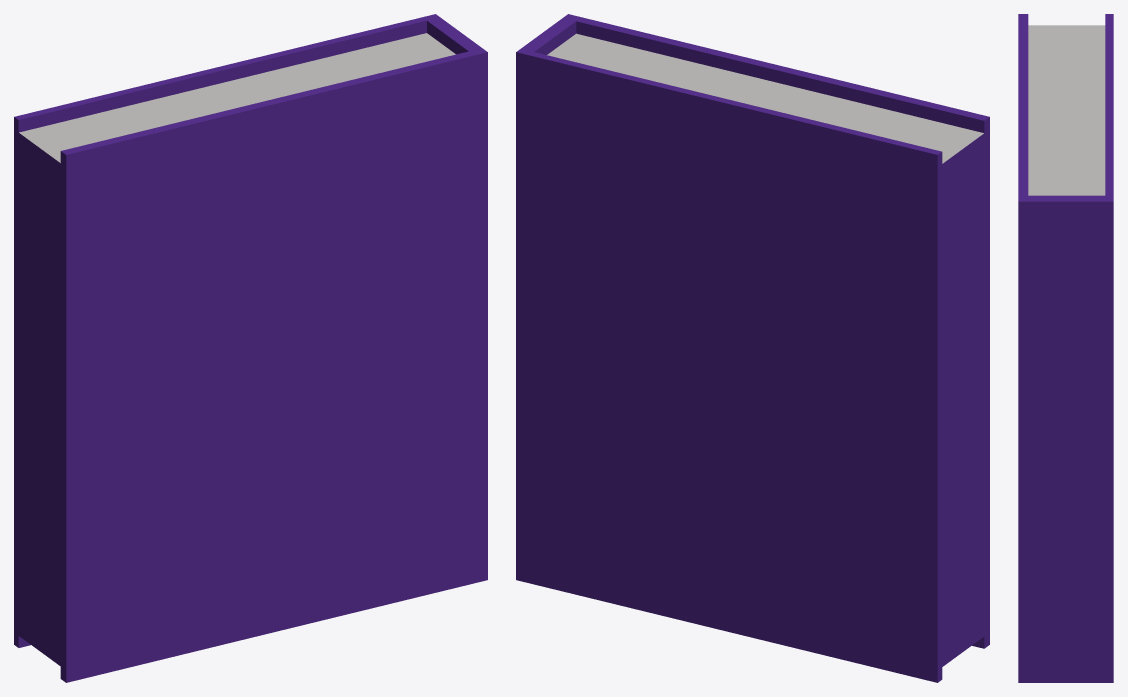
File: Book_Less_Polys.fbx
The picture shows the model from 3 angles, left to right: view 1: azimuth 30°, elevation 25°; view 2: azimuth 150°, elevation 25°; view 3: azimuth 270°, elevation 25°; orthographic projection. The views are drawn at different scales.
Visible parts, largest first — view 1: Book5; view 2: Book5; view 3: Book5.
Part boxes in pixels (left/top/right/bottom): Book5: left=14, top=14, right=487, bottom=682; Book5: left=516, top=14, right=989, bottom=682; Book5: left=1018, top=14, right=1113, bottom=682.
Bounding box in the file's own units: 0.8653 × 1.04 × 0.1853.
